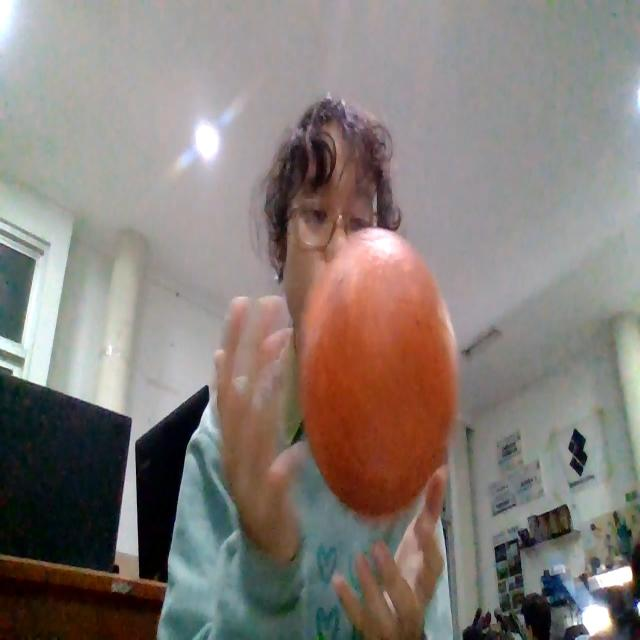ball: (296, 226, 458, 520)
